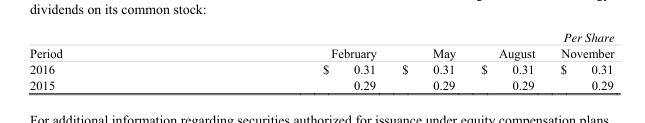table: (28, 28, 613, 92)
table column: (191, 28, 388, 92), (28, 28, 191, 92), (467, 28, 547, 92), (388, 28, 467, 92), (547, 28, 613, 92)
table column header: (28, 28, 613, 60)
table row: (28, 28, 613, 60), (28, 60, 613, 76), (28, 76, 613, 92)
